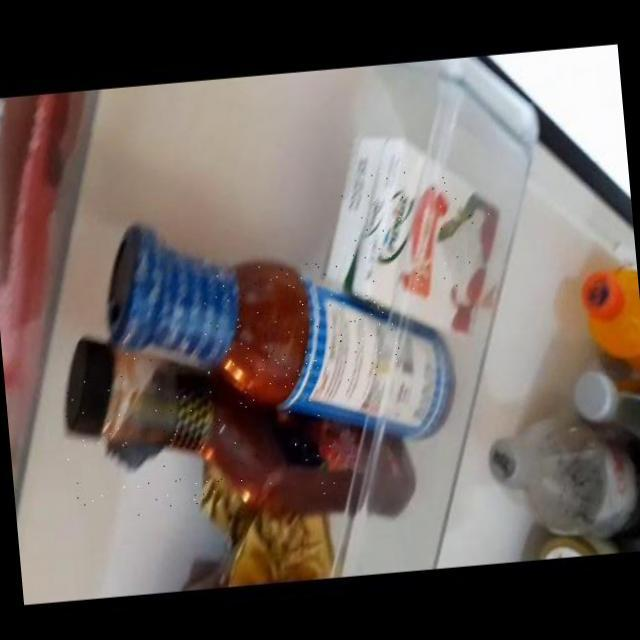cream cheese: (329, 155, 496, 300)
sauce: (59, 333, 351, 520), (194, 253, 402, 396)
